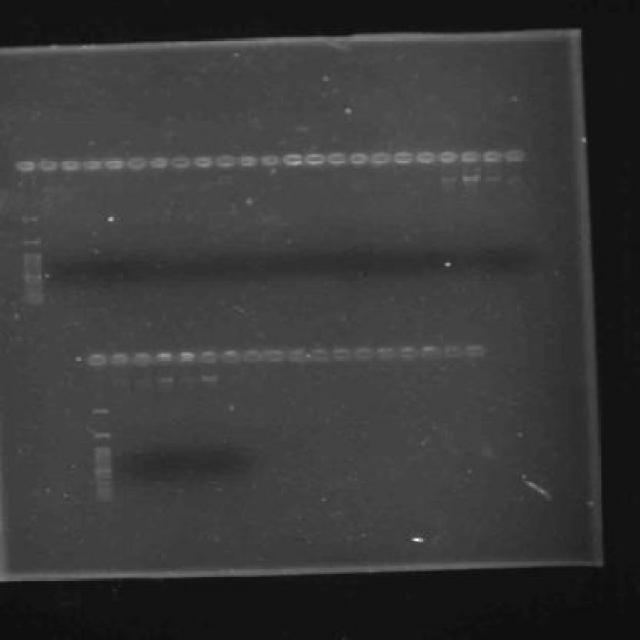L: (11, 144, 532, 178), (78, 341, 492, 372)
M: (13, 207, 49, 313), (84, 402, 120, 508)
P: (22, 290, 44, 304), (21, 252, 44, 263), (92, 446, 114, 457), (22, 238, 42, 247), (91, 407, 111, 415), (94, 487, 114, 495), (23, 273, 42, 281), (94, 466, 112, 474), (20, 215, 38, 222), (92, 432, 112, 438), (93, 474, 113, 480), (94, 480, 112, 486)
Pc: (303, 150, 326, 168), (368, 149, 392, 166), (462, 343, 486, 360), (125, 154, 147, 172), (280, 150, 302, 168), (286, 346, 308, 364), (242, 348, 264, 366), (218, 348, 240, 366), (213, 153, 236, 170), (417, 343, 440, 360), (174, 348, 194, 367), (504, 148, 527, 164), (457, 148, 480, 164), (83, 352, 106, 368), (108, 350, 128, 368), (196, 349, 217, 366), (236, 153, 258, 169), (325, 150, 347, 166), (413, 150, 435, 166), (435, 148, 457, 164), (130, 351, 152, 367), (330, 346, 352, 362), (308, 348, 330, 364), (59, 156, 79, 173), (153, 350, 172, 367), (148, 155, 168, 171), (259, 152, 279, 168), (348, 151, 368, 167), (396, 344, 416, 360), (14, 159, 36, 173), (80, 157, 102, 171), (168, 156, 190, 170), (192, 154, 214, 168), (38, 157, 58, 172), (266, 348, 286, 363), (104, 158, 125, 172), (374, 346, 396, 359), (482, 148, 502, 162), (354, 346, 374, 360), (442, 344, 460, 359), (393, 150, 412, 164)
